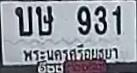1: (112, 5, 120, 34)
3: (94, 5, 106, 34)
9: (77, 5, 90, 34)
A26: (14, 5, 32, 36)
A39: (35, 5, 52, 35)
AYA: (18, 41, 121, 63)
